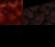altar: (0, 0, 23, 25)
axe: (23, 25, 55, 47)
